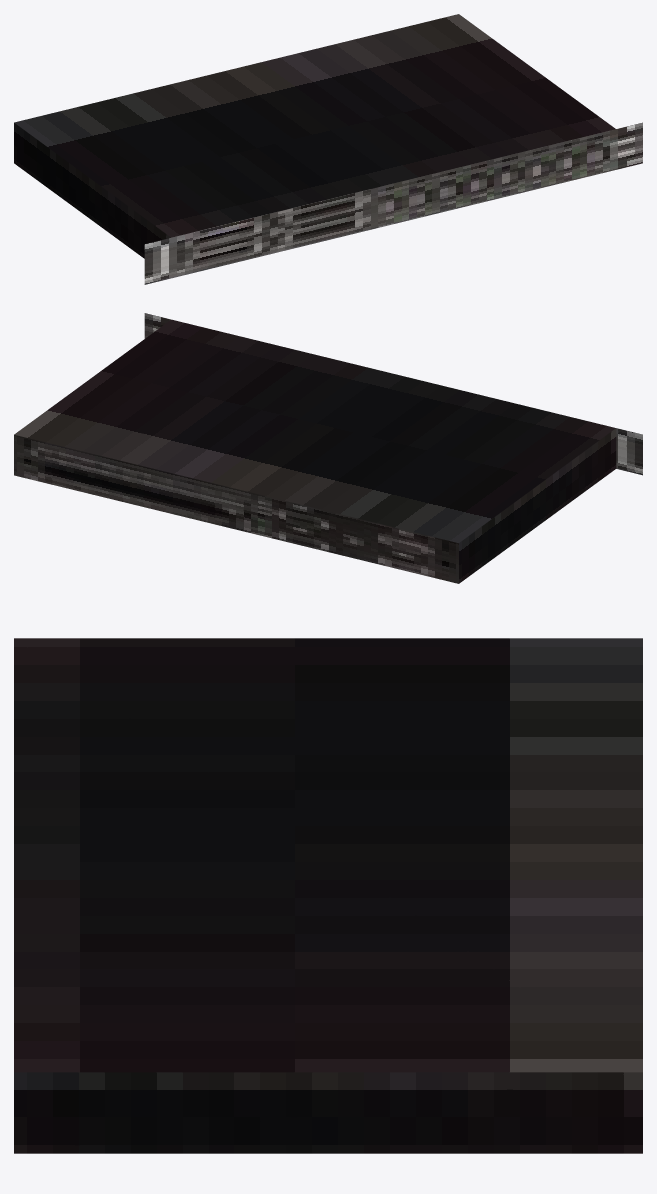
Rendered from patchpanel.fbx.
3 views of the same model, one above another, from view 1: azimuth 30°, elevation 25°; view 2: azimuth 150°, elevation 25°; view 3: azimuth 270°, elevation 25° (orthographic). The views are drawn at different scales.
Visible parts, largest first — view 1: patchpanel; view 2: patchpanel; view 3: patchpanel.
Part boxes in pixels (x1,y1,x2,y2): patchpanel: (14, 14, 642, 284); patchpanel: (14, 313, 642, 583); patchpanel: (14, 638, 642, 1153).
Bounding box in the file's own units: 54.64 × 4.27 × 29.87.
